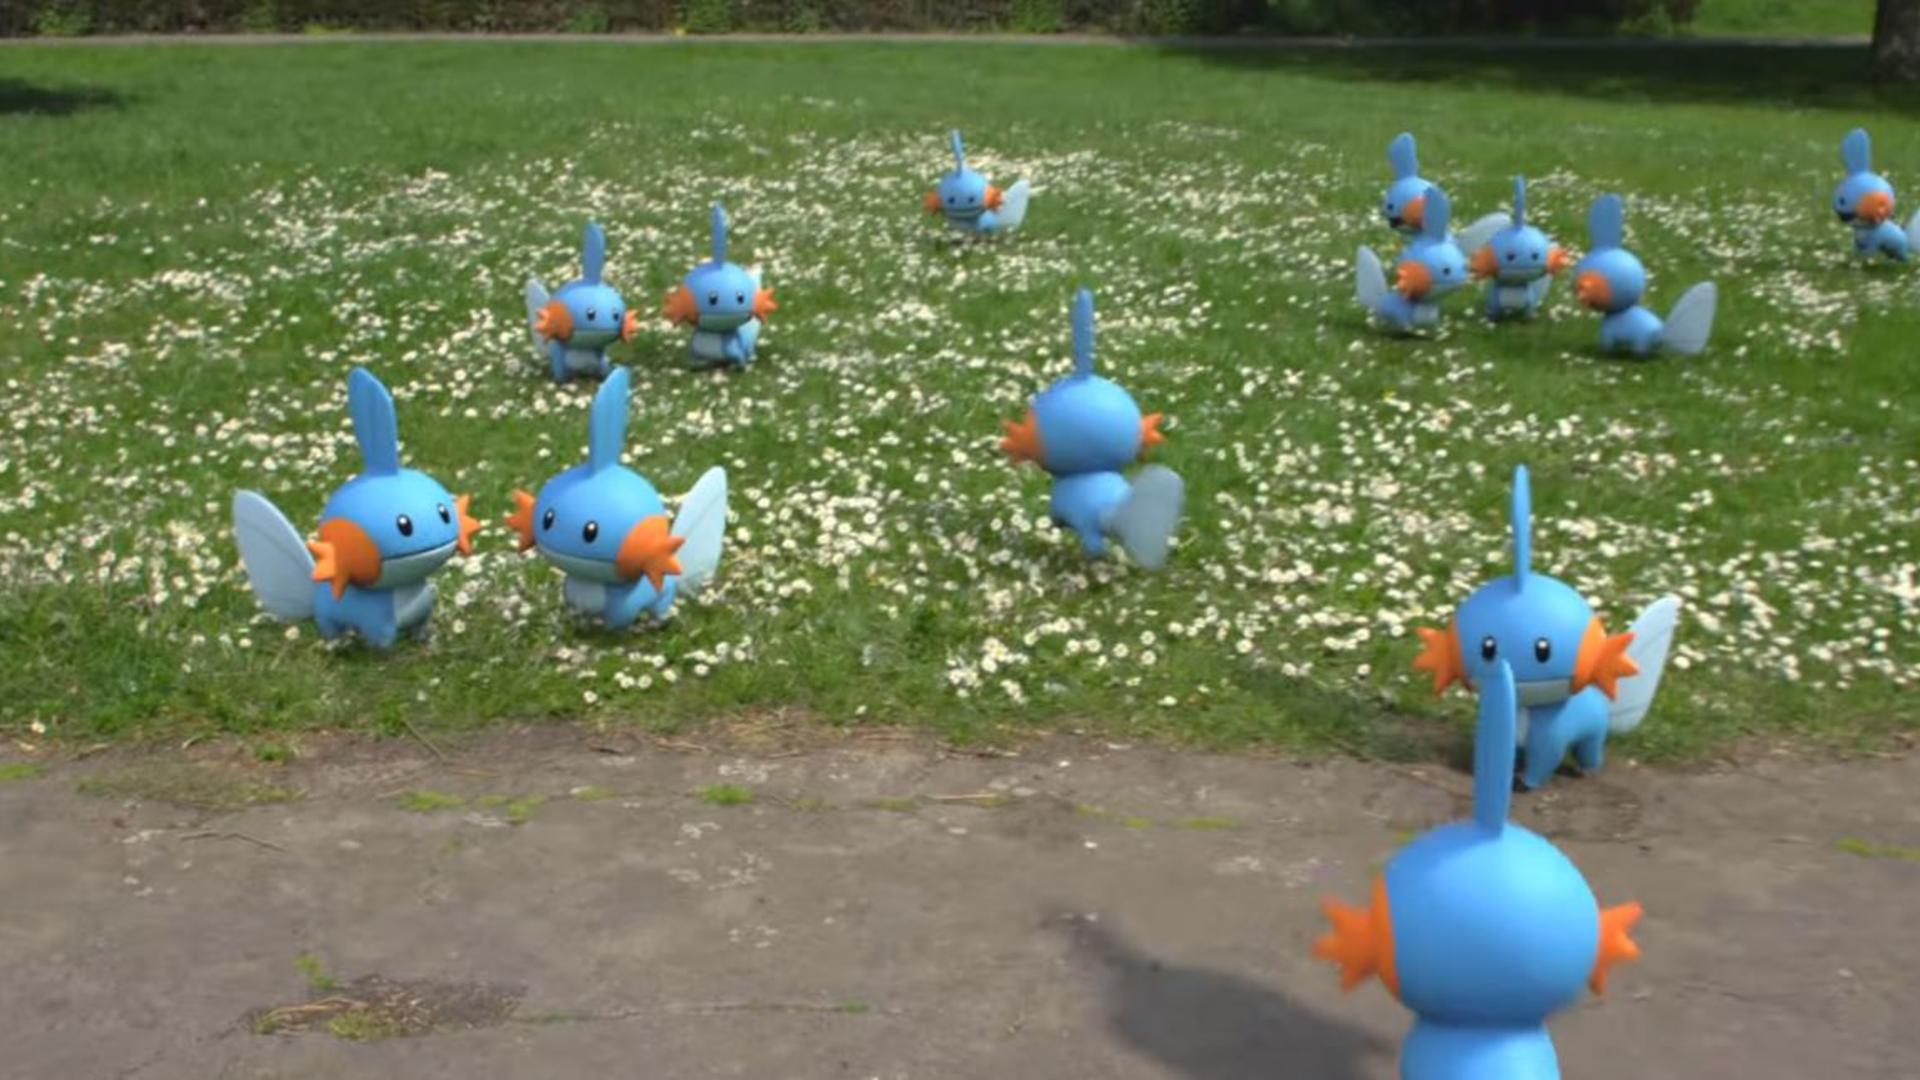mudkip: (1279, 651, 1684, 1080), (1387, 415, 1681, 786), (225, 353, 489, 684), (975, 276, 1201, 611), (509, 357, 732, 640), (1573, 173, 1722, 390), (650, 194, 791, 390), (1313, 189, 1473, 342), (509, 220, 646, 381), (1466, 156, 1569, 347), (1817, 108, 1920, 284), (922, 120, 1038, 247), (1371, 120, 1458, 235)
